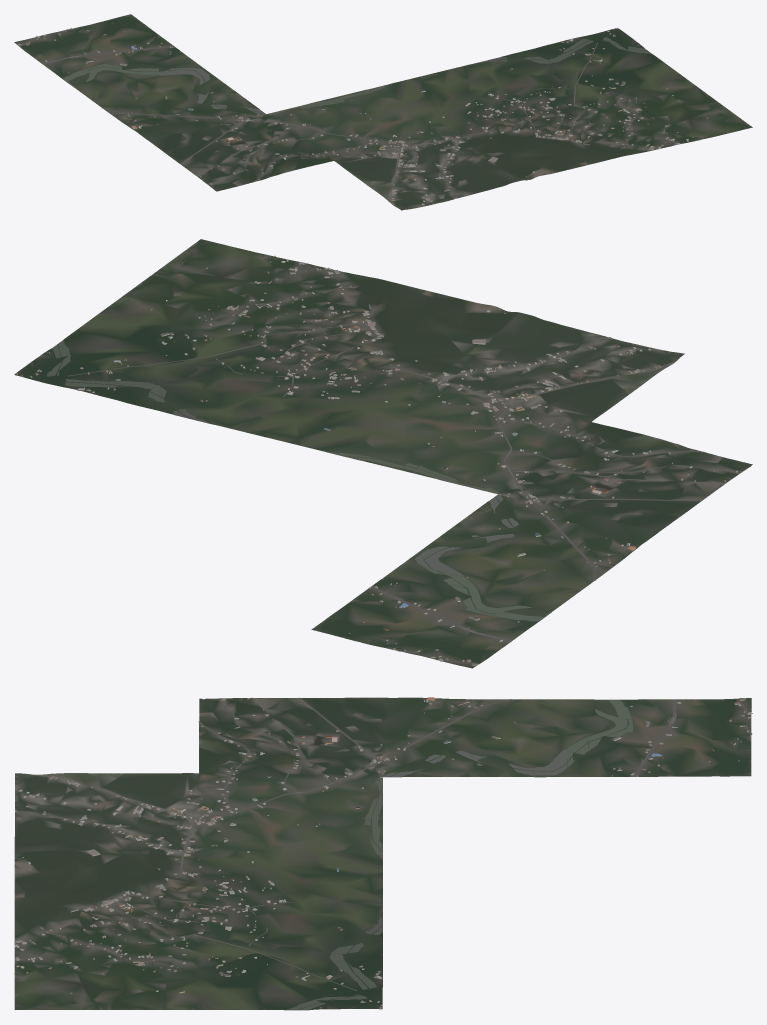
3 views of the same model, one above another, from view 1: azimuth 30°, elevation 25°; view 2: azimuth 150°, elevation 25°; view 3: azimuth 270°, elevation 25° (orthographic). The views are drawn at different scales.
Parts seen in each view (by area): view 1: ground, buildings, water, roads; view 2: ground, buildings, water, roads; view 3: ground, buildings, water, roads.
Boxes of the visible parts, x1,y1,x2,y2 form: ground: (14,14,752,210); buildings: (16,23,707,204); water: (63,37,652,156); roads: (19,29,658,199); ground: (14,239,752,668); buildings: (15,256,737,666); water: (47,338,688,621); roads: (67,269,742,664); ground: (14,697,751,1010); buildings: (14,697,752,1008); water: (235,698,633,1010); roads: (16,697,752,990).
Bounding box in the file's own units: 5601 × 52.84 × 5621.
